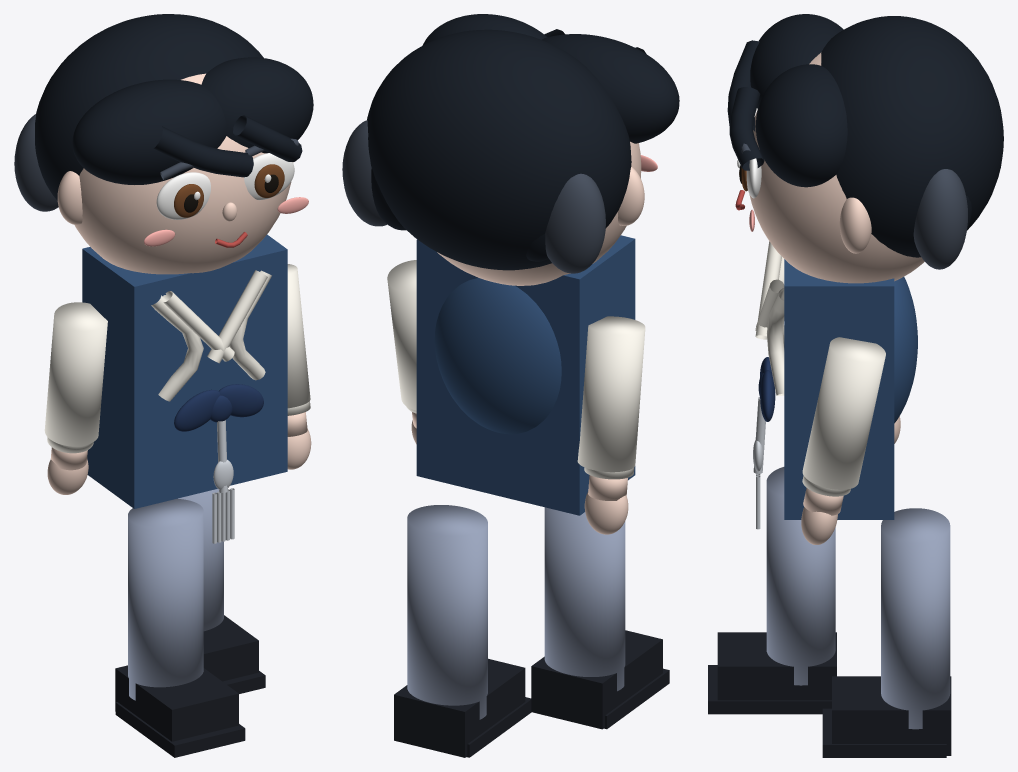
File: guest-12-master.glb
The picture shows the model from 3 angles, left to right: view 1: azimuth 30°, elevation 25°; view 2: azimuth 150°, elevation 25°; view 3: azimuth 270°, elevation 25°; orthographic projection. The views are drawn at different scales.
Parts seen in each view (by area): view 1: Guest12 long navy vest, Hair back, Head, Suit trouser -1, Side part left, Suit sleeve -1, Side part right, Dress shoe -1, Dress shoe 1, Suit trouser 1, Suit sleeve 1, Front side part (+18 smaller); view 2: Hair back, Guest12 long navy vest, Suit trouser 1, Suit torso, Suit trouser -1, Suit sleeve -1, Side part left, Dress shoe 1, Dress shoe -1, Short hair lock 1, Suit sleeve 1, Short hair lock 7 (+8 smaller); view 3: Hair back, Guest12 long navy vest, Suit trouser 1, Suit trouser -1, Head, Side part right, Suit sleeve 1, Dress shoe 1, Dress shoe -1, Short hair lock 7, Side part left, Suit torso (+11 smaller).
Boxes of the visible parts, x1,y1,x2,y2 form: Guest12 long navy vest: (82, 234, 287, 508); Hair back: (35, 14, 263, 200); Head: (74, 73, 293, 274); Suit trouser -1: (128, 498, 203, 700); Side part left: (72, 79, 226, 184); Suit sleeve -1: (44, 302, 107, 446); Side part right: (201, 57, 313, 153); Dress shoe -1: (115, 665, 238, 741); Dress shoe 1: (203, 615, 258, 681); Suit trouser 1: (178, 489, 223, 631); Suit sleeve 1: (287, 264, 310, 408); Front side part: (153, 126, 253, 177); Hair back: (367, 29, 631, 270); Guest12 long navy vest: (416, 235, 635, 515); Suit trouser 1: (407, 505, 487, 719); Suit torso: (434, 278, 561, 434); Suit trouser -1: (544, 507, 625, 691); Suit sleeve -1: (577, 316, 645, 472); Side part left: (542, 34, 679, 143); Dress shoe 1: (394, 658, 525, 757); Dress shoe -1: (531, 630, 662, 729); Short hair lock 1: (545, 173, 605, 273); Suit sleeve 1: (387, 260, 416, 410); Short hair lock 7: (342, 120, 386, 226); Hair back: (821, 16, 1003, 257); Guest12 long navy vest: (784, 259, 894, 519); Suit trouser 1: (881, 508, 950, 729); Suit trouser -1: (766, 467, 835, 685); Head: (749, 52, 924, 283); Side part right: (755, 64, 847, 187); Suit sleeve 1: (802, 337, 885, 489); Dress shoe 1: (832, 676, 951, 755); Dress shoe -1: (717, 632, 836, 700); Short hair lock 7: (913, 169, 967, 269); Side part left: (750, 14, 843, 108); Suit torso: (894, 277, 917, 423).
Bounding box in the file's own units: 1.25 × 3.19 × 1.24.
